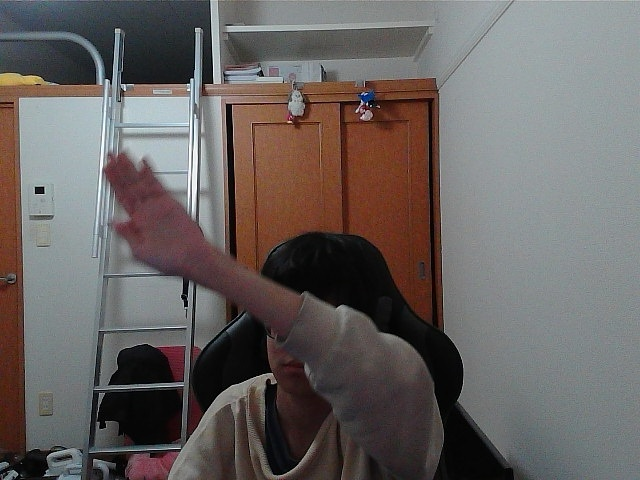open_palm: (110, 159, 186, 263)
